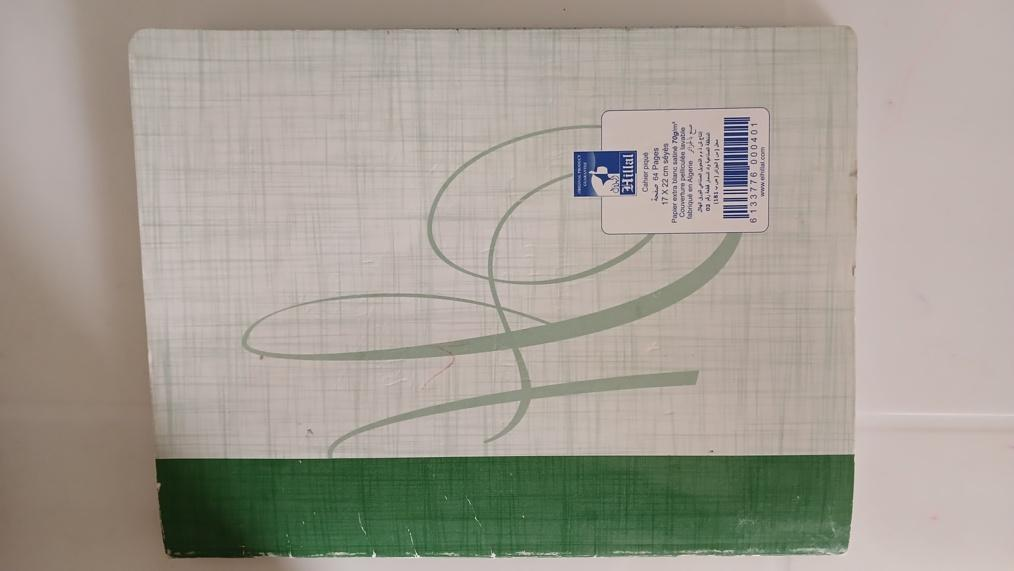notebook: (126, 22, 857, 555)
